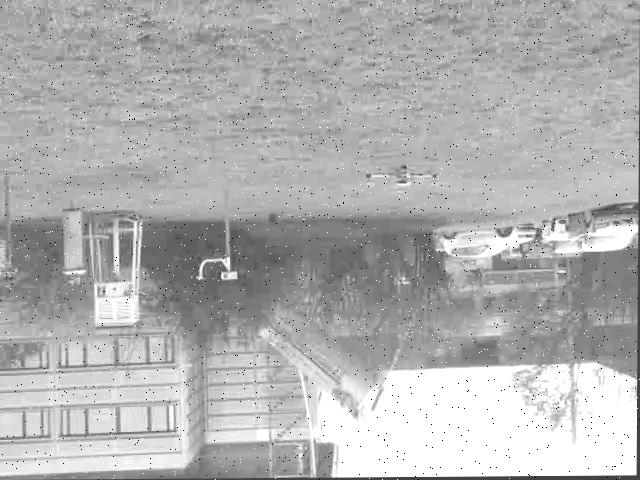drone: (364, 163, 440, 192)
